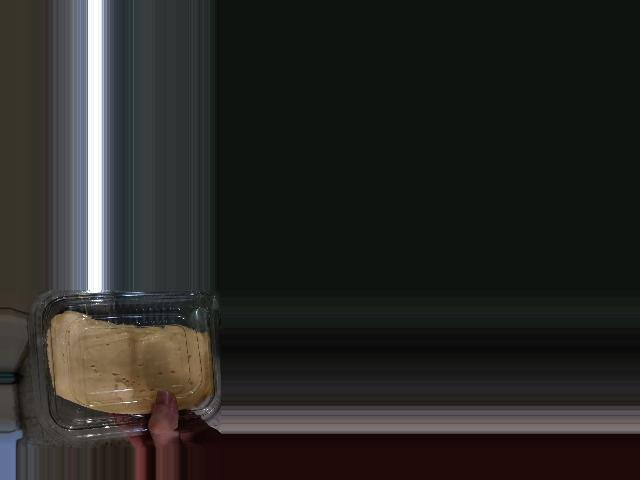cheese: (28, 289, 222, 423)
